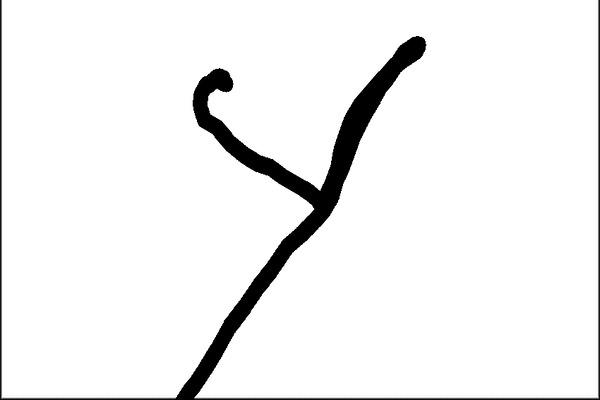Y: (163, 29, 443, 399)
